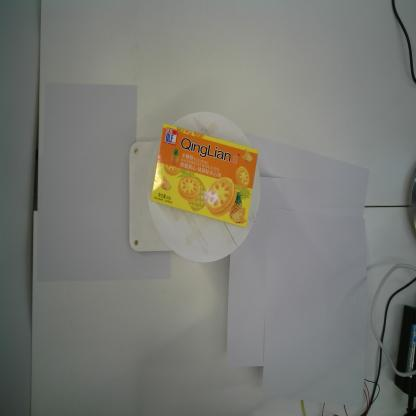Dessert: (150, 124, 258, 229)
